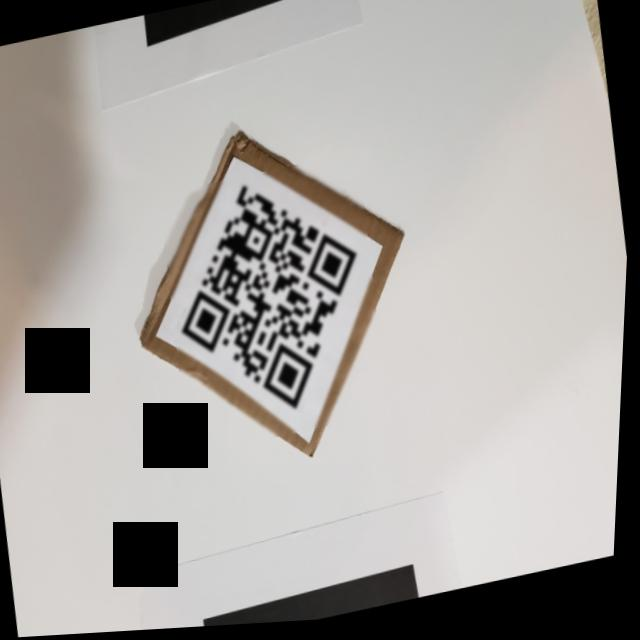QR_CODE: (151, 154, 401, 460)
